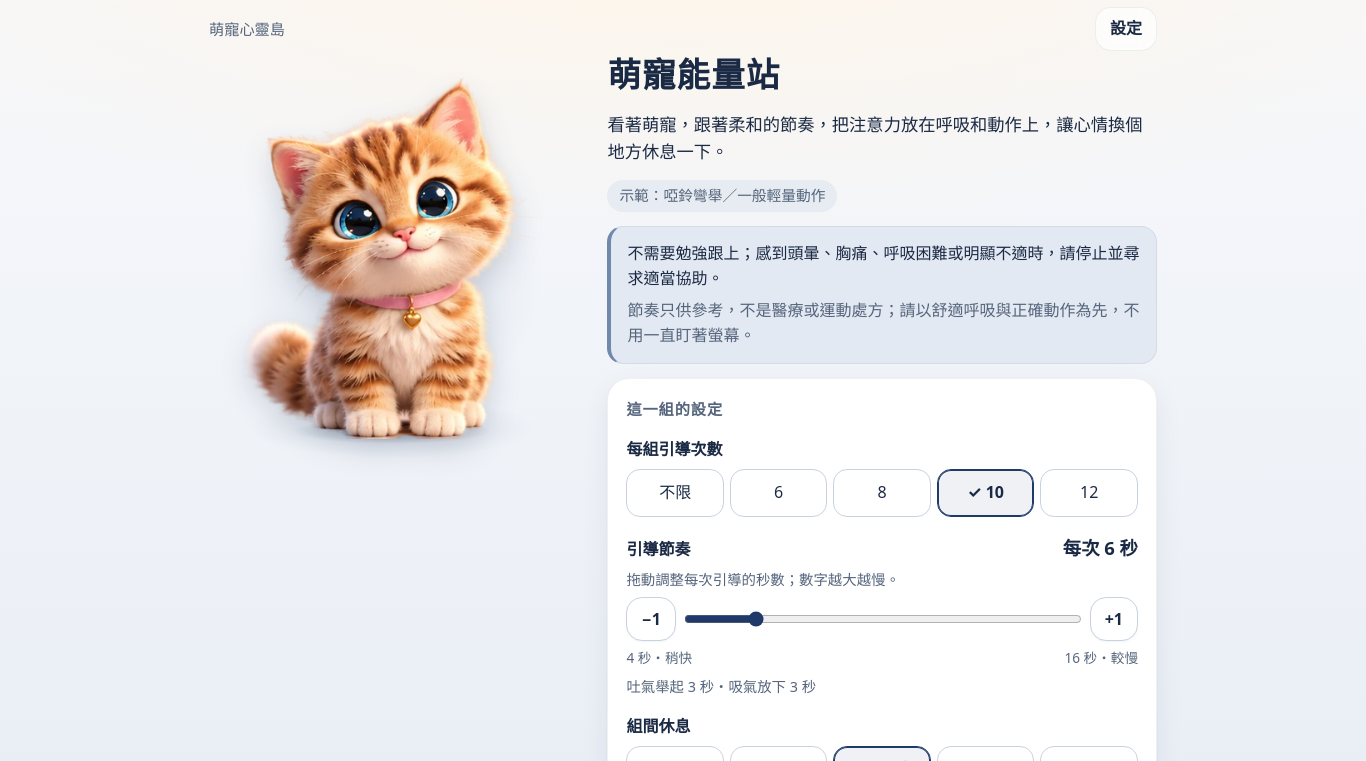
Test case: 萌寵能量站 UI › 不限模式不自動結束
Step 1. Click the radio button labelled "不限" → (675, 493), box left=626, top=469, right=724, bottom=517
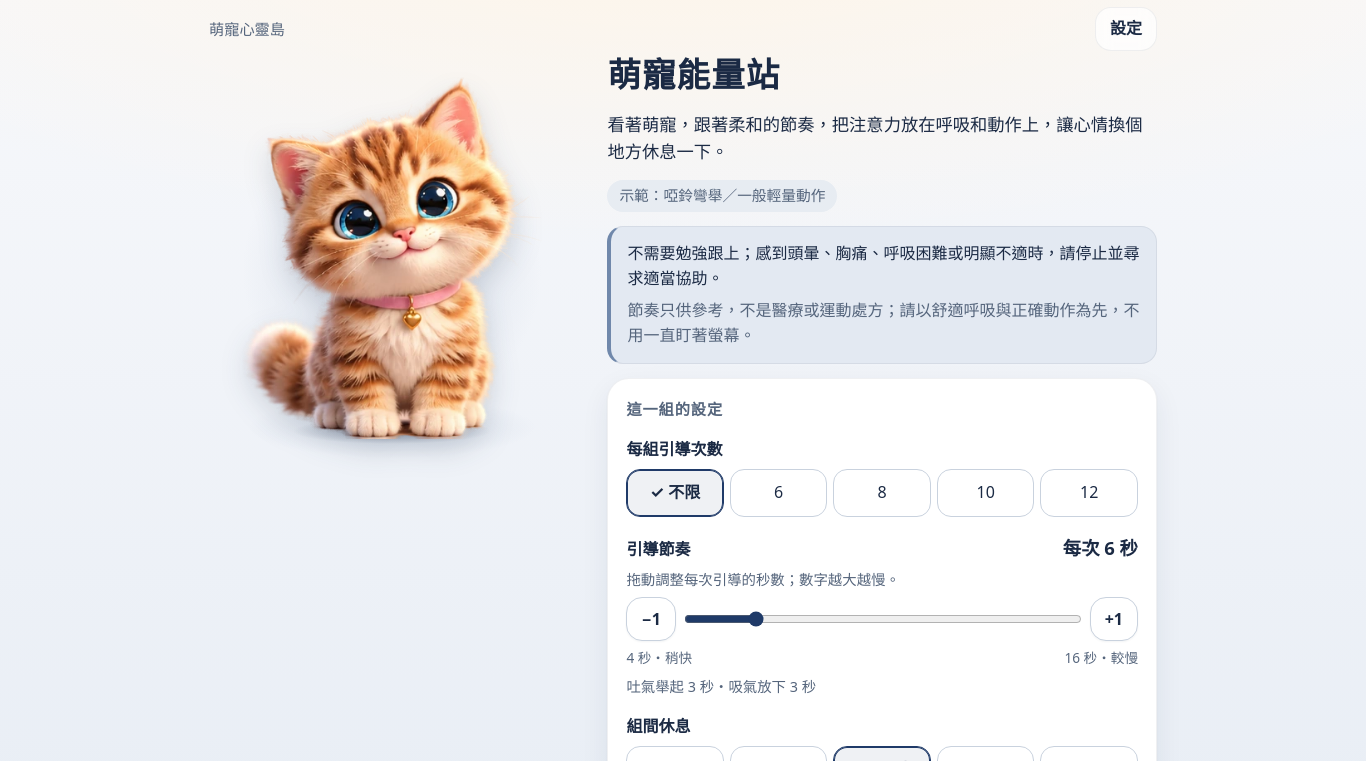
Step 2. Set the slider labelled "引導節奏" to "4" → (692, 619), box left=684, top=597, right=1082, bottom=641
(page scrolled)
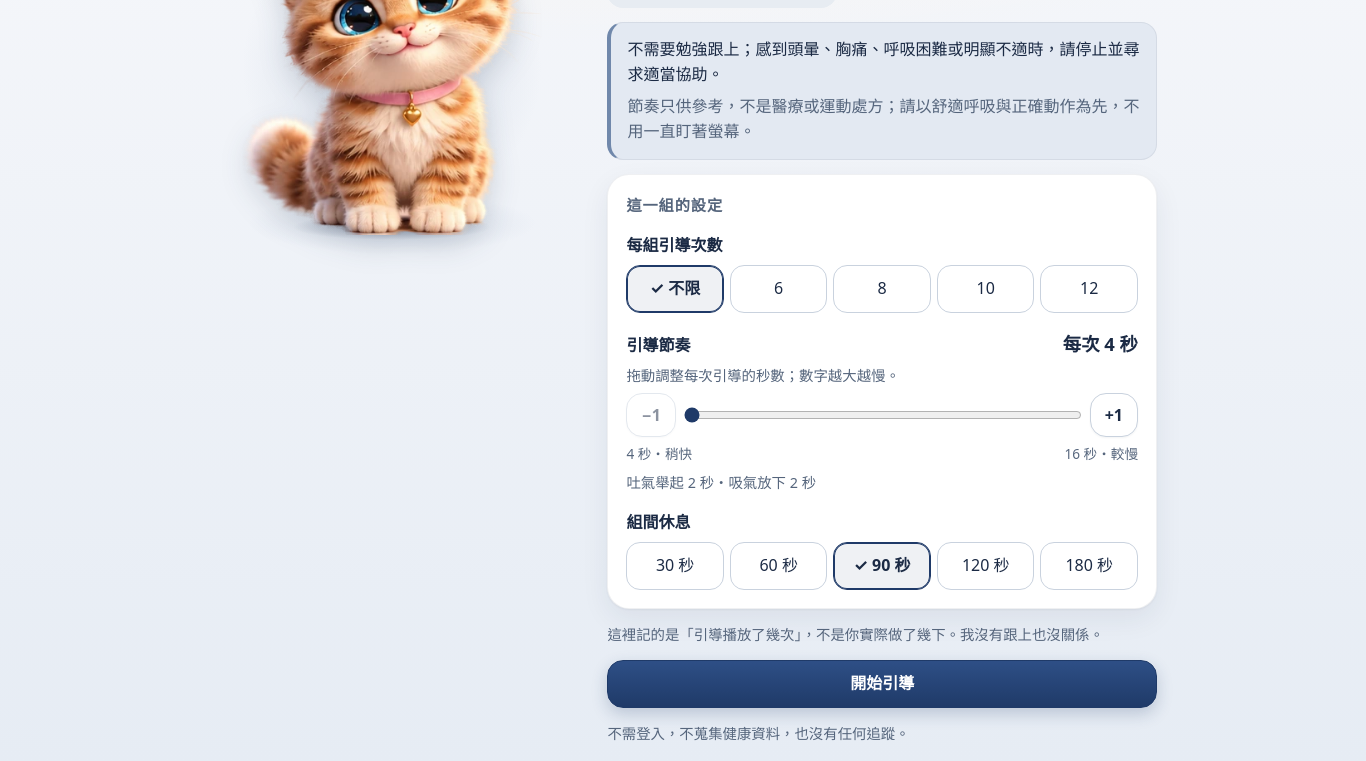
Step 3. Click the button "開始引導" → (882, 684), box left=607, top=660, right=1157, bottom=708
(page scrolled)
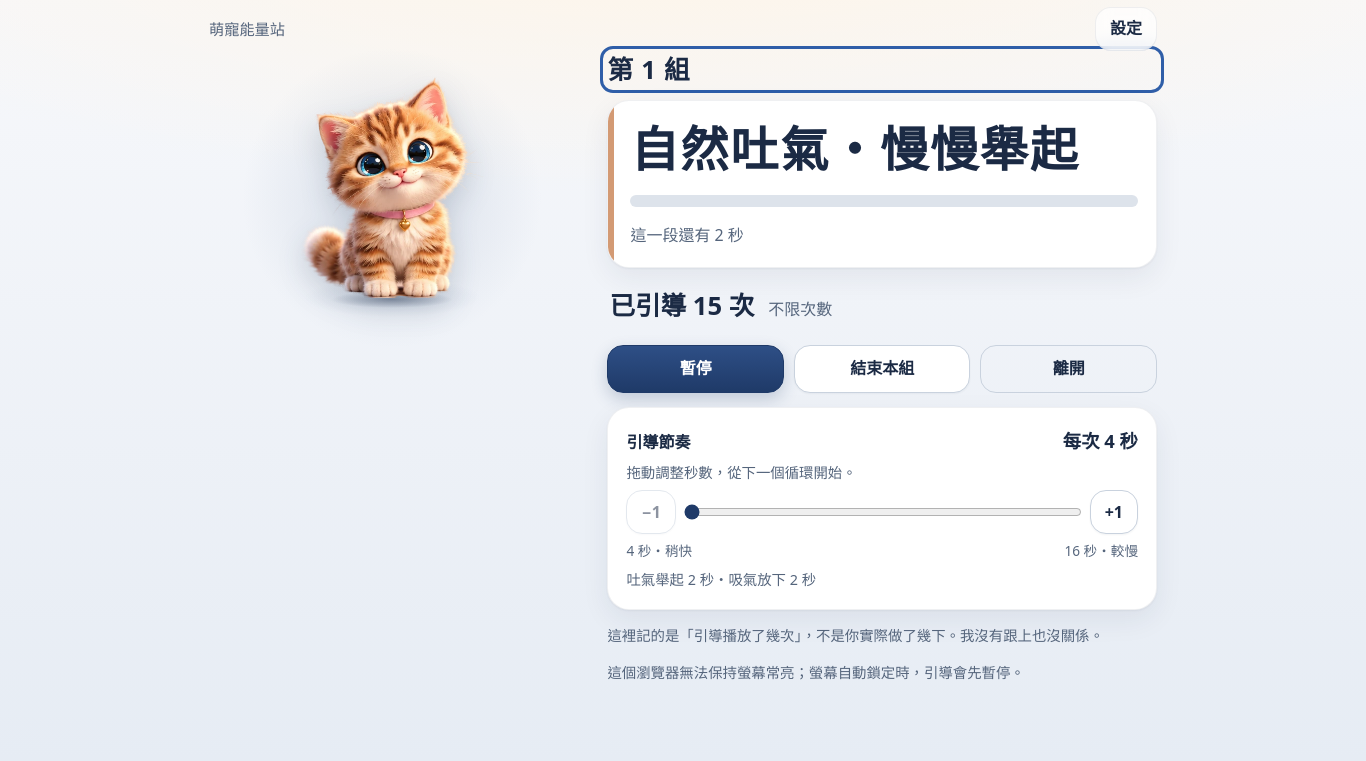
Check: the text "已引導 15 次" is shown, box left=609, top=286, right=754, bottom=327
Check: the text "不限次數" is shown, box left=768, top=297, right=832, bottom=322
